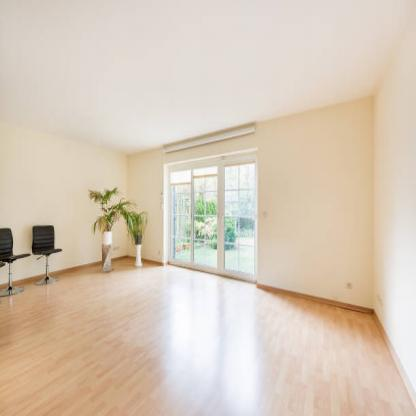Window: (164, 150, 257, 284)
